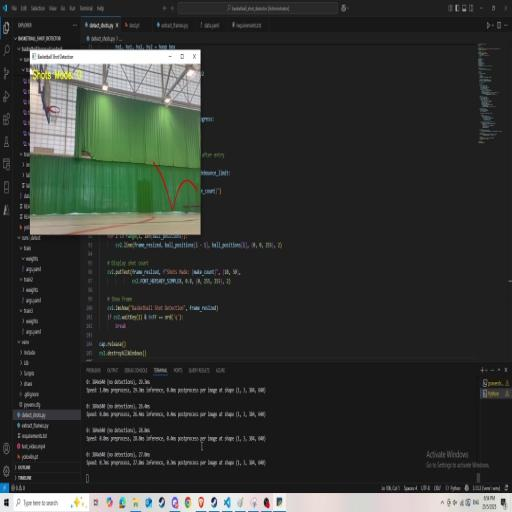hoops: (48, 104, 61, 126)
